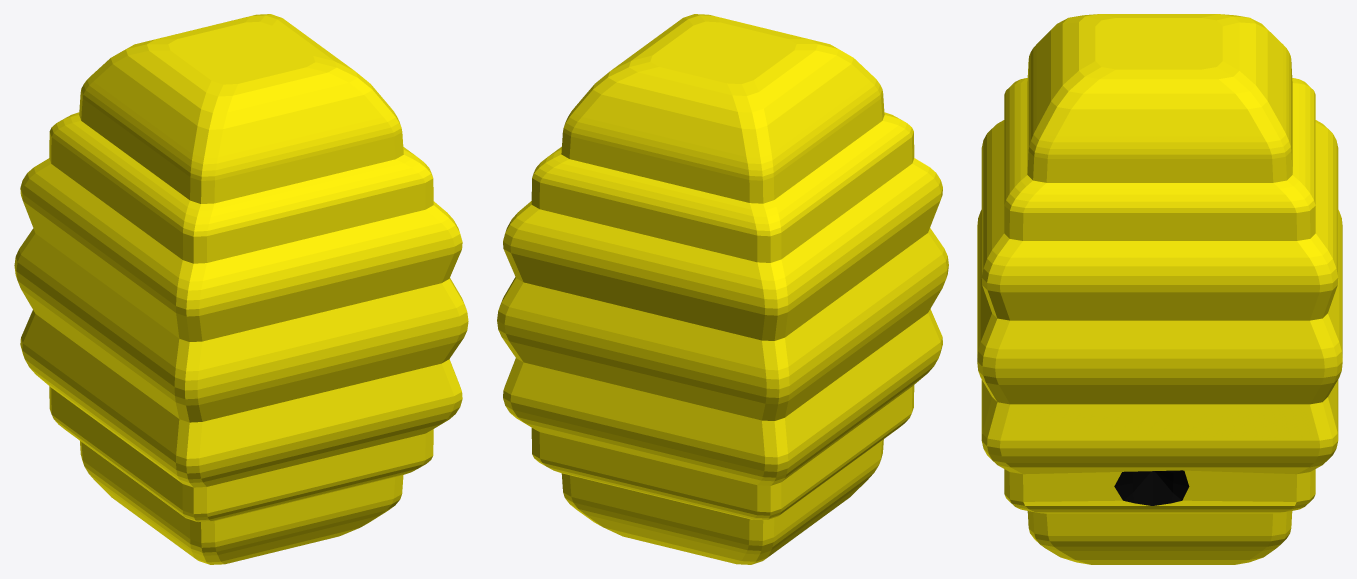
File: Colmeia.fbx
3 views of the same model, side by side, from view 1: azimuth 30°, elevation 25°; view 2: azimuth 150°, elevation 25°; view 3: azimuth 270°, elevation 25° (orthographic). The views are drawn at different scales.
Visible parts, largest first — view 1: Cube.006; view 2: Cube.006; view 3: Cube.006.
Part boxes in pixels (x1,y1,x2,y2): Cube.006: (14, 14, 468, 564); Cube.006: (497, 14, 948, 564); Cube.006: (977, 14, 1342, 564).
Bounding box in the file's own units: 279 × 435 × 290.
